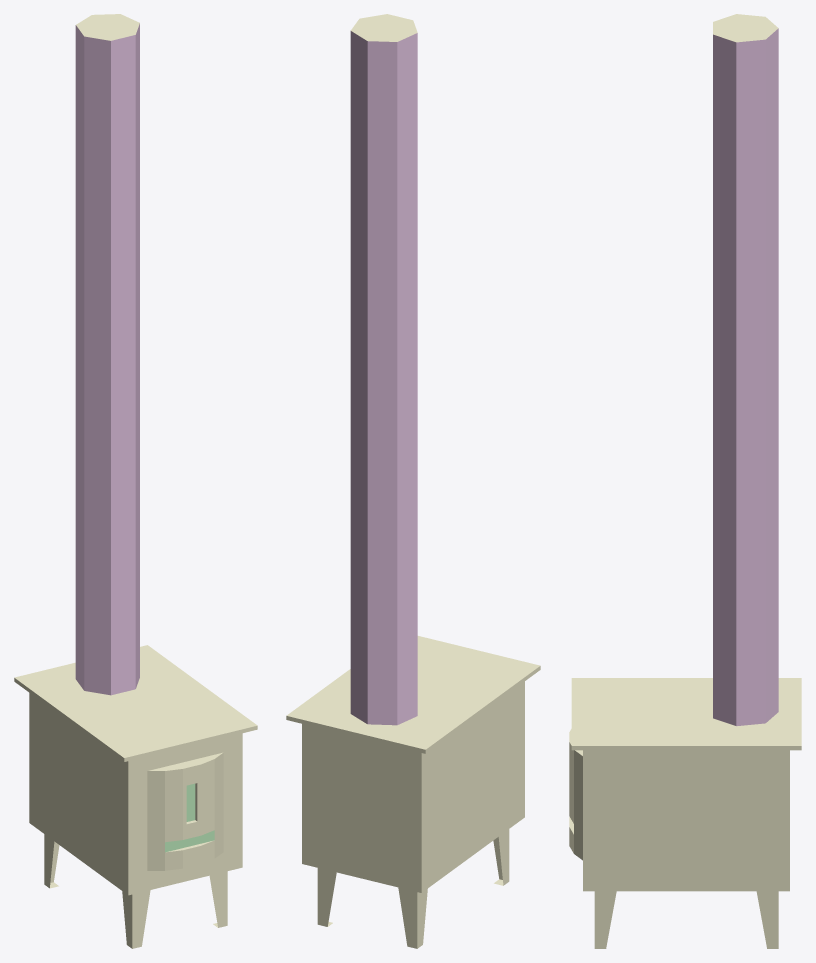
File: Stove.glb
3 renders of one model, left to right at view 1: azimuth 30°, elevation 25°; view 2: azimuth 150°, elevation 25°; view 3: azimuth 270°, elevation 25°, orthographic. The views are drawn at different scales.
Visible parts, largest first — view 1: Stove; view 2: Stove; view 3: Stove.
Part boxes in pixels (<box>): Stove: <box>14,14,257,948</box>; Stove: <box>286,14,540,948</box>; Stove: <box>569,14,801,948</box>.
Bounding box in the file's own units: 0.35 × 2.15 × 0.505.
